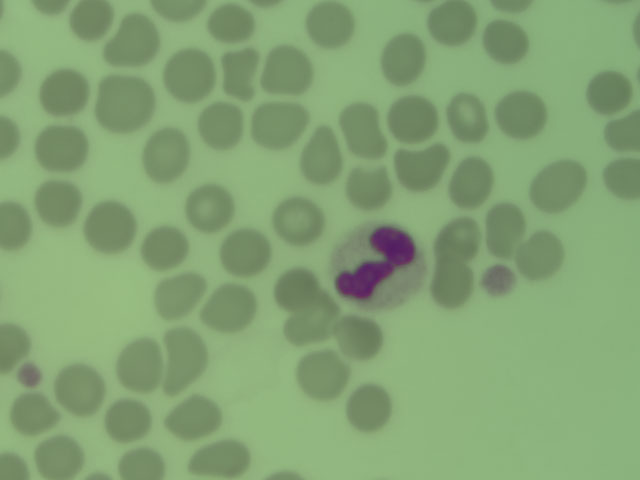RBC: (331, 232, 424, 308)
WBC: (84, 204, 139, 259), (532, 155, 587, 210), (478, 19, 533, 74), (108, 15, 163, 70), (162, 50, 217, 105), (94, 76, 149, 131), (54, 354, 109, 409), (155, 329, 210, 384), (111, 336, 166, 391), (207, 282, 262, 337), (149, 265, 204, 320), (211, 218, 266, 273), (138, 217, 193, 272), (181, 177, 236, 232), (139, 130, 194, 185), (346, 380, 400, 432), (189, 438, 253, 480), (35, 124, 87, 175), (497, 91, 548, 140), (292, 353, 350, 395), (380, 32, 427, 83), (250, 101, 305, 144), (32, 433, 82, 480), (38, 64, 83, 116), (584, 70, 634, 116), (6, 389, 57, 434), (302, 122, 339, 183), (447, 90, 489, 143), (516, 230, 562, 278), (269, 46, 319, 90), (285, 298, 335, 342), (395, 143, 445, 187), (306, 1, 352, 48), (389, 93, 435, 140), (432, 215, 478, 262), (426, 1, 476, 43), (452, 155, 490, 210), (344, 103, 381, 159), (340, 163, 387, 207), (101, 397, 151, 438), (334, 316, 382, 358), (112, 444, 167, 480), (36, 177, 78, 224), (486, 200, 522, 253), (274, 197, 320, 238), (169, 396, 217, 434), (282, 266, 322, 311), (204, 5, 254, 41), (200, 104, 239, 149), (67, 1, 111, 40), (430, 259, 467, 302), (603, 110, 640, 153), (603, 157, 640, 200), (1, 201, 30, 250), (1, 321, 27, 372), (1, 116, 19, 168), (1, 48, 18, 99)
